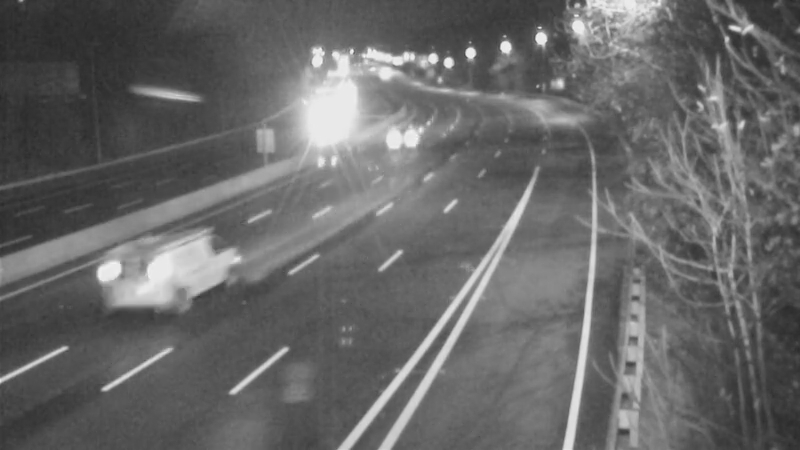vehicle: (145, 227, 225, 307), (379, 112, 429, 162), (299, 103, 349, 153)
